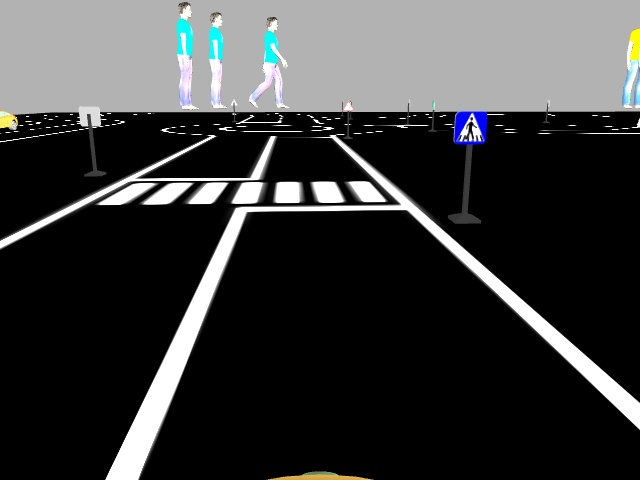Crosswalk: (452, 110, 486, 146)
